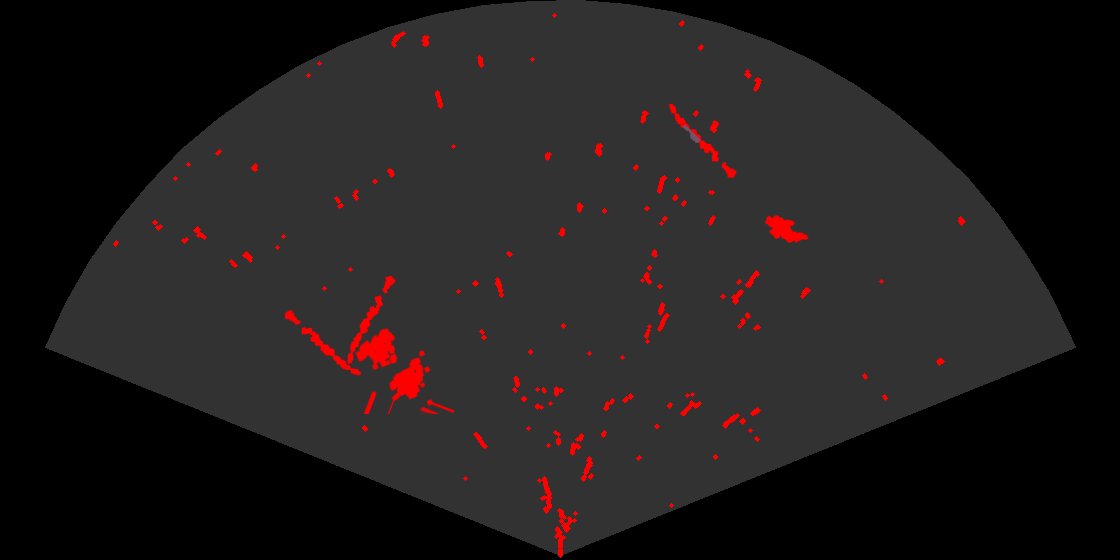AUV: (763, 214, 810, 244)
cage: (353, 327, 454, 414)
chain: (283, 308, 363, 377), (667, 102, 738, 179), (346, 274, 397, 366)
